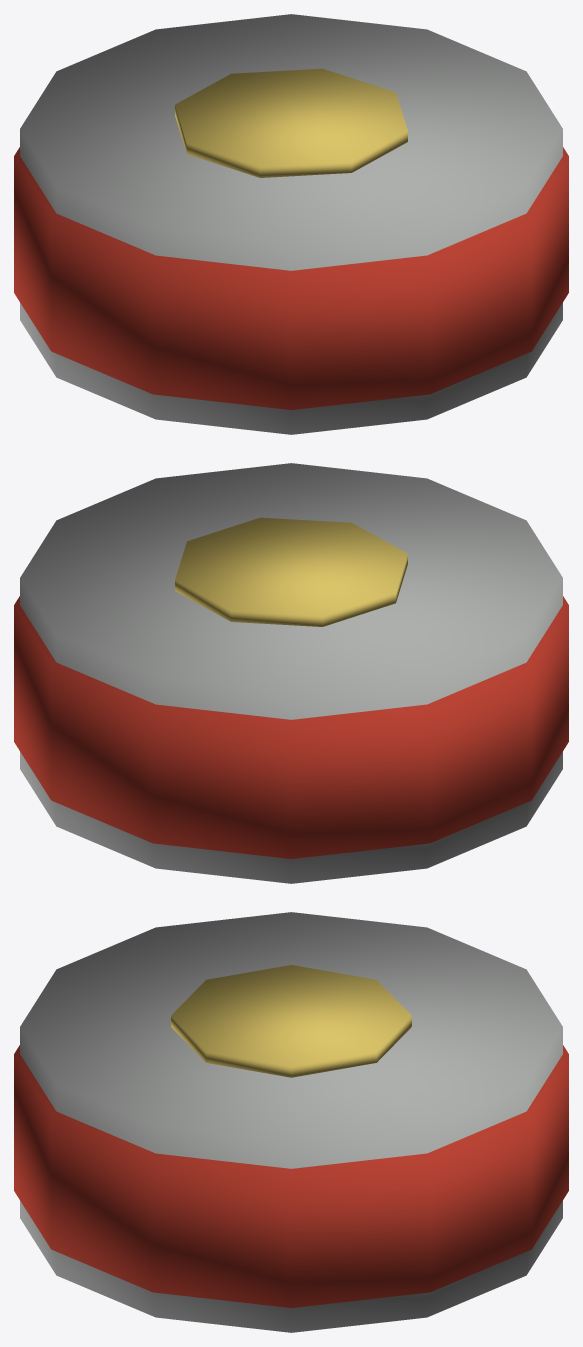
File: kilka.glb
The picture shows the model from 3 angles, top to bottom: view 1: azimuth 30°, elevation 25°; view 2: azimuth 150°, elevation 25°; view 3: azimuth 270°, elevation 25°; orthographic projection.
Visible parts, largest first — view 1: Item; view 2: Item; view 3: Item.
Part boxes in pixels (x1,y1,x2,y2): Item: [14, 14, 568, 434]; Item: [14, 463, 568, 883]; Item: [14, 912, 568, 1332].
Size of the model in its own units: 0.092 by 0.037 by 0.092.
